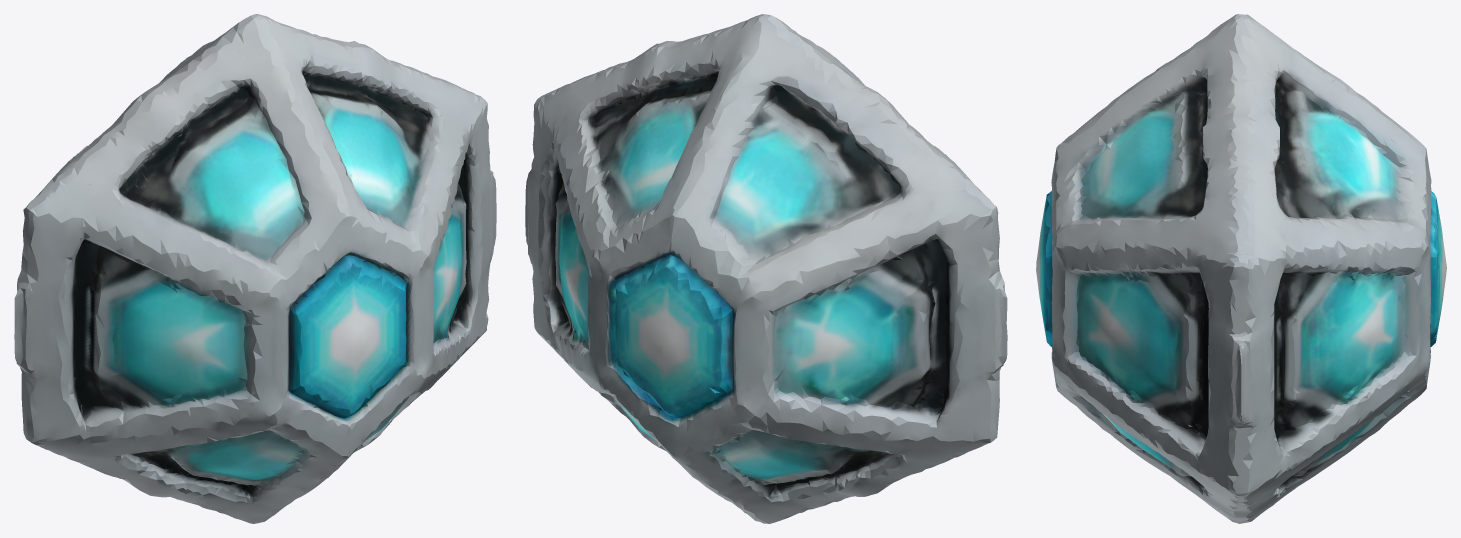
The model's file is falcon_shield.glb.
3 renders of one model, left to right at view 1: azimuth 30°, elevation 25°; view 2: azimuth 150°, elevation 25°; view 3: azimuth 270°, elevation 25°, orthographic.
Visible parts, largest first — view 1: falcon_shield; view 2: falcon_shield; view 3: falcon_shield.
Boxes of the visible parts, x1,y1,x2,y2 form: falcon_shield: (14,14,496,523); falcon_shield: (525,14,1007,523); falcon_shield: (1036,14,1446,523).
Size of the model in its own units: 1.89 by 1.9 by 1.4.
1 material, 1 textured.
